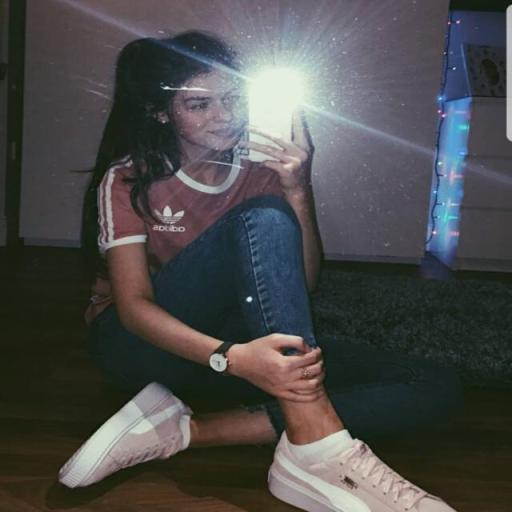Adidas: (150, 202, 188, 232)
